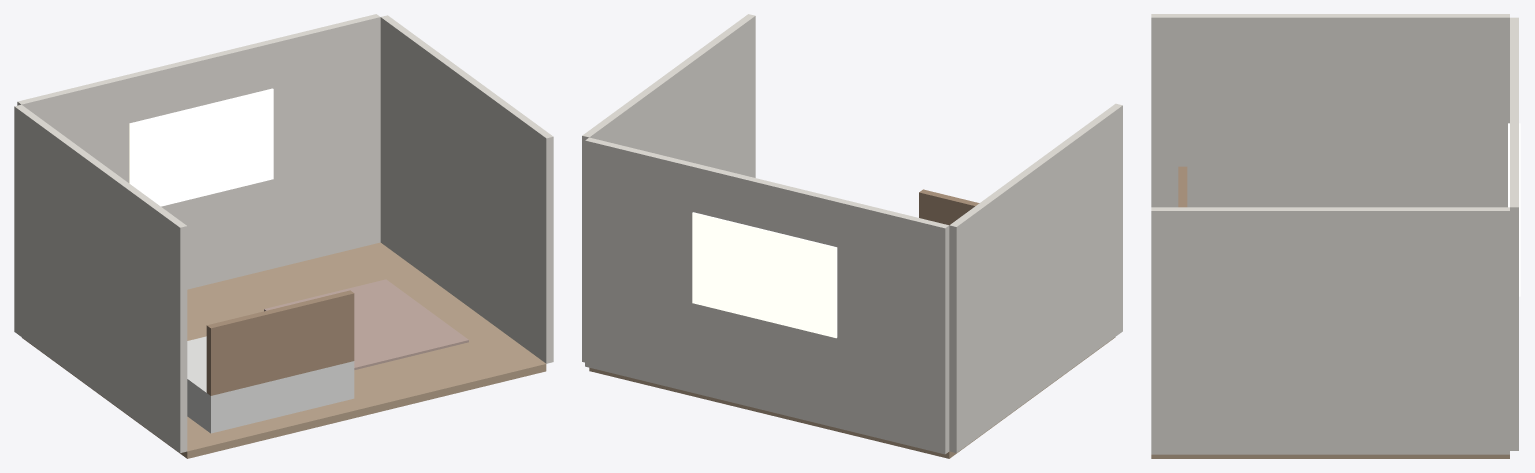
Rendered from sample-room.glb.
3 views of the same model, side by side, from view 1: azimuth 30°, elevation 25°; view 2: azimuth 150°, elevation 25°; view 3: azimuth 270°, elevation 25° (orthographic). The views are drawn at different scales.
Size of the model in its own units: 5.2 by 3.1 by 4.12.
